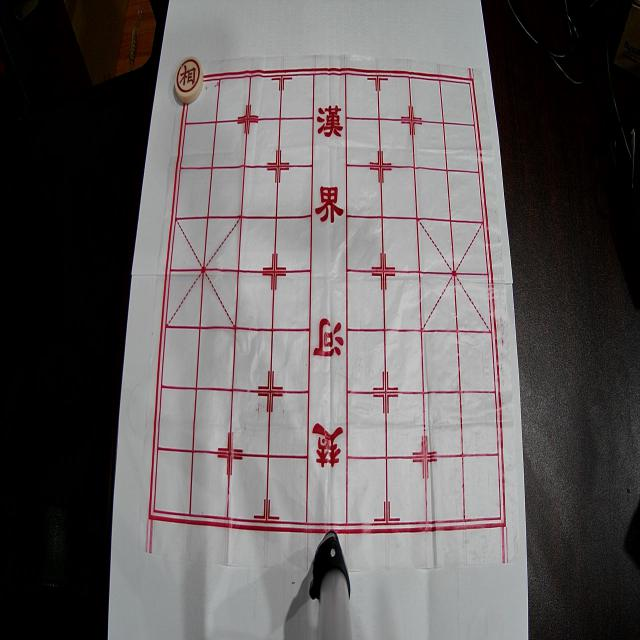red-elephant: (174, 56, 203, 104)
